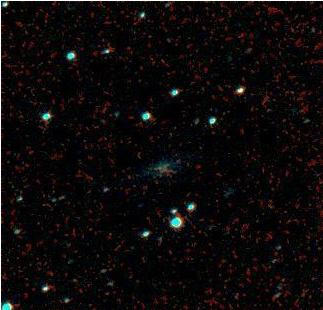star: (37, 259, 67, 289)
